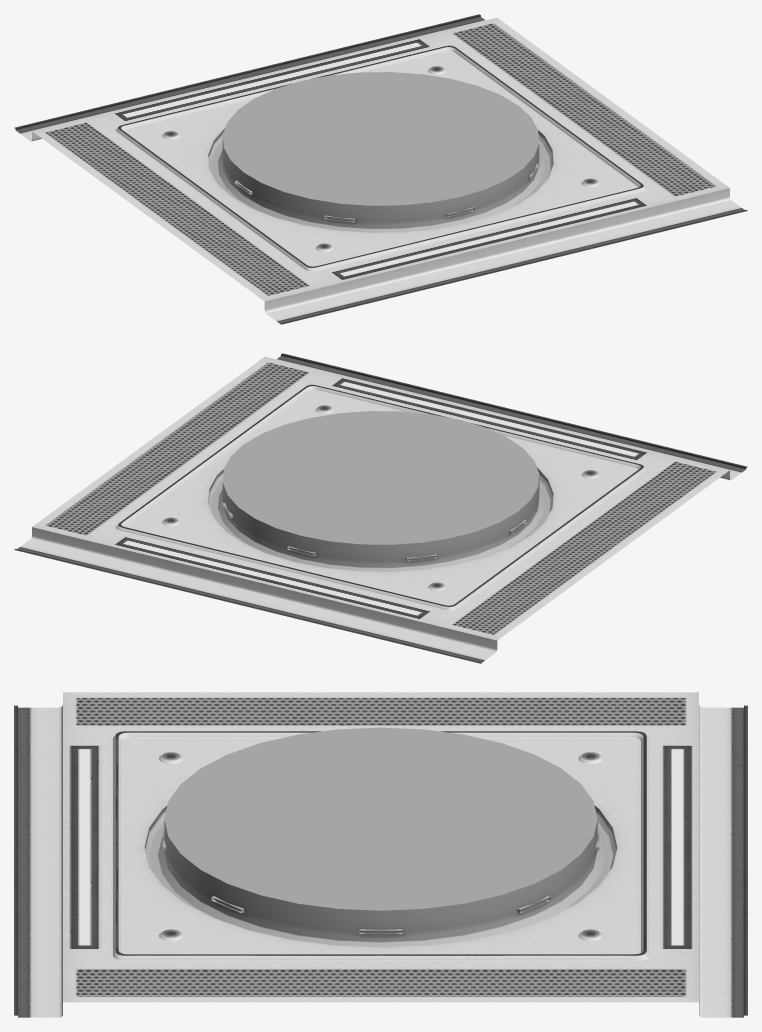
The model's file is SM_MCeiling03-350x350-1.FBX.
3 renders of one model, top to bottom at view 1: azimuth 30°, elevation 25°; view 2: azimuth 150°, elevation 25°; view 3: azimuth 270°, elevation 25°, orthographic. The views are drawn at different scales.
Parts seen in each view (by area): view 1: SM_MCeiling03-350x350-1; view 2: SM_MCeiling03-350x350-1; view 3: SM_MCeiling03-350x350-1.
Boxes of the visible parts, x1,y1,x2,y2 form: SM_MCeiling03-350x350-1: [14, 14, 747, 324]; SM_MCeiling03-350x350-1: [14, 353, 747, 663]; SM_MCeiling03-350x350-1: [14, 692, 747, 1017].
Size of what is drawn, in the model's own units: 350 by 350 by 22.86.
